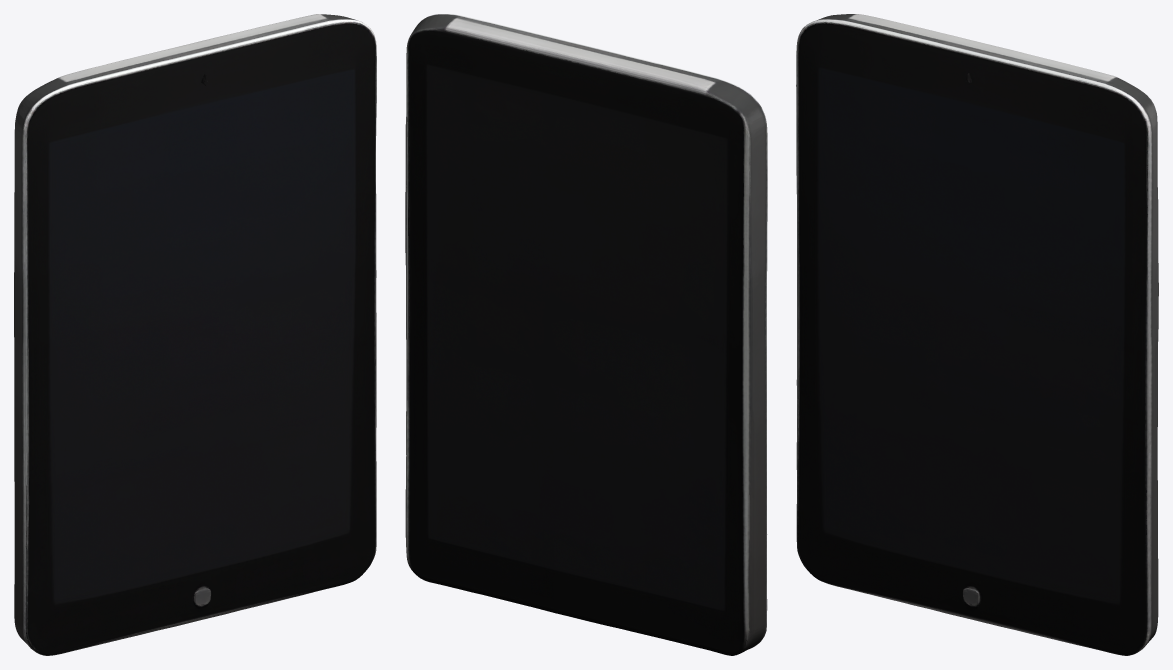
The model's file is ipad.glb.
3 views of the same model, side by side, from view 1: azimuth 30°, elevation 25°; view 2: azimuth 150°, elevation 25°; view 3: azimuth 330°, elevation 25° (orthographic).
Parts seen in each view (by area): view 1: world; view 2: world; view 3: world.
Boxes of the visible parts, <box> form: world: <box>14,14,376,655</box>; world: <box>405,14,767,655</box>; world: <box>796,14,1158,655</box>.
Size of the model in its own units: 0.652 by 0.9986 by 0.0654.
Materials: 1 (1 with a texture image).
